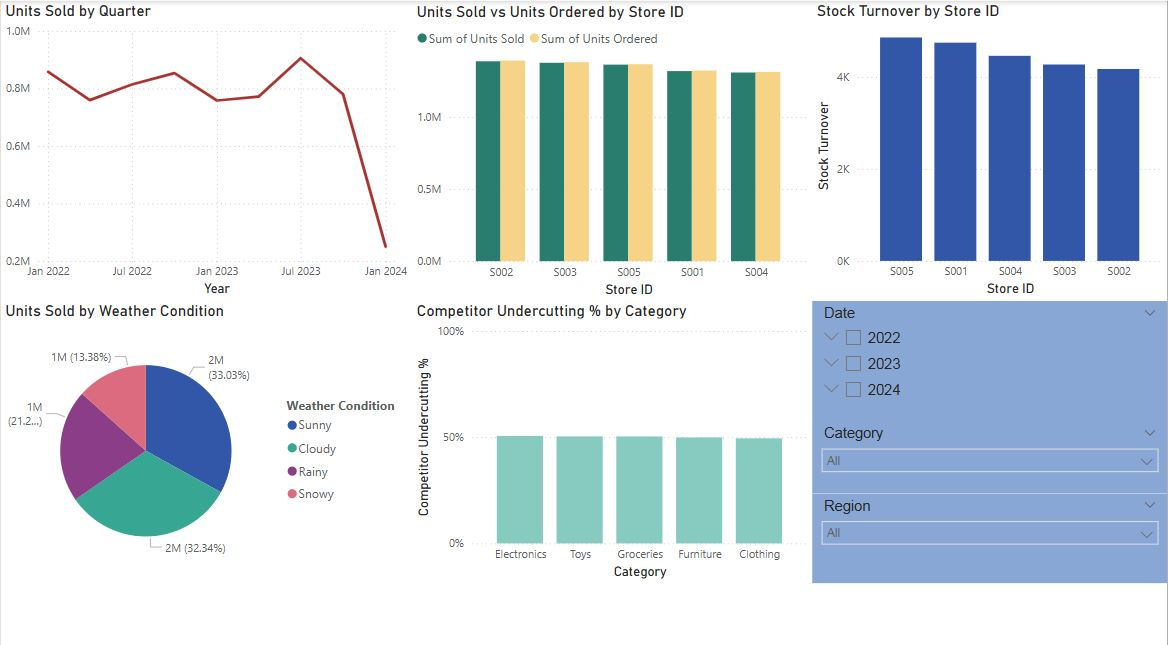

The page's visual inventory and layout, read from the dashboard file:
{"tool":"powerbi","page":{"name":"Operational Trends & Performance Drivers","canvas":[1280,720],"ordinal":1},"visuals":[{"type":"lineChart","title":"Units Sold by Quarter","fields":{"Y":["Sum(sales_data.Units Sold)"],"Category":["sales_data.Date.Variation.Date Hierarchy.Year","sales_data.Date.Variation.Date Hierarchy.Quarter"]},"box":[0,0,451.5,329.3],"z":0},{"type":"clusteredColumnChart","title":"Units Sold vs Units Ordered by Store ID","fields":{"Category":["sales_data.Store ID"],"Y":["Sum(sales_data.Units Sold)","Sum(sales_data.Units Ordered)"]},"box":[451.5,1.4,439.1,328],"z":1},{"type":"clusteredColumnChart","fields":{"Y":["sales_data.Stock Turnover"],"Category":["sales_data.Store ID"]},"box":[890.6,0,389.7,329.3],"z":2},{"type":"pieChart","title":"Units Sold by Weather Condition","fields":{"Category":["sales_data.Weather Condition"],"Y":["Sum(sales_data.Units Sold)"]},"box":[0,329.3,451.5,310.1],"z":3},{"type":"clusteredColumnChart","fields":{"Category":["sales_data.Category"],"Y":["sales_data.Competitor Undercutting %"]},"box":[451.5,329.3,439.1,310.1],"z":4},{"type":"slicer","fields":{"Values":["sales_data.Date.Variation.Date Hierarchy.Year","sales_data.Date.Variation.Date Hierarchy.Quarter","sales_data.Date.Variation.Date Hierarchy.Month"]},"box":[890.6,329.3,389.7,131.7],"z":5},{"type":"slicer","fields":{"Values":["sales_data.Category"]},"box":[890.6,461.1,389.7,79.6],"z":6},{"type":"slicer","fields":{"Values":["sales_data.Region"]},"box":[890.6,540.7,389.7,98.8],"z":7}]}

Visuals, with their boxes in screenshot pixels (x1, y1, x2, y2), scaled from the page's 1280x720 canvas onto the 1168x645 screenshot:
"Units Sold by Quarter" lineChart: box=[0, 0, 412, 295]
"Units Sold vs Units Ordered by Store ID" clusteredColumnChart: box=[412, 1, 813, 295]
clusteredColumnChart - sales_data.Stock Turnover x sales_data.Store ID: box=[813, 0, 1167, 295]
"Units Sold by Weather Condition" pieChart: box=[0, 295, 412, 573]
clusteredColumnChart - sales_data.Category x sales_data.Competitor Undercutting %: box=[412, 295, 813, 573]
slicer - sales_data.Date.Variation.Date Hierarchy.Year x sales_data.Date.Variation.Date Hierarchy.Quarter: box=[813, 295, 1167, 413]
slicer - sales_data.Category: box=[813, 413, 1167, 484]
slicer - sales_data.Region: box=[813, 484, 1167, 573]
